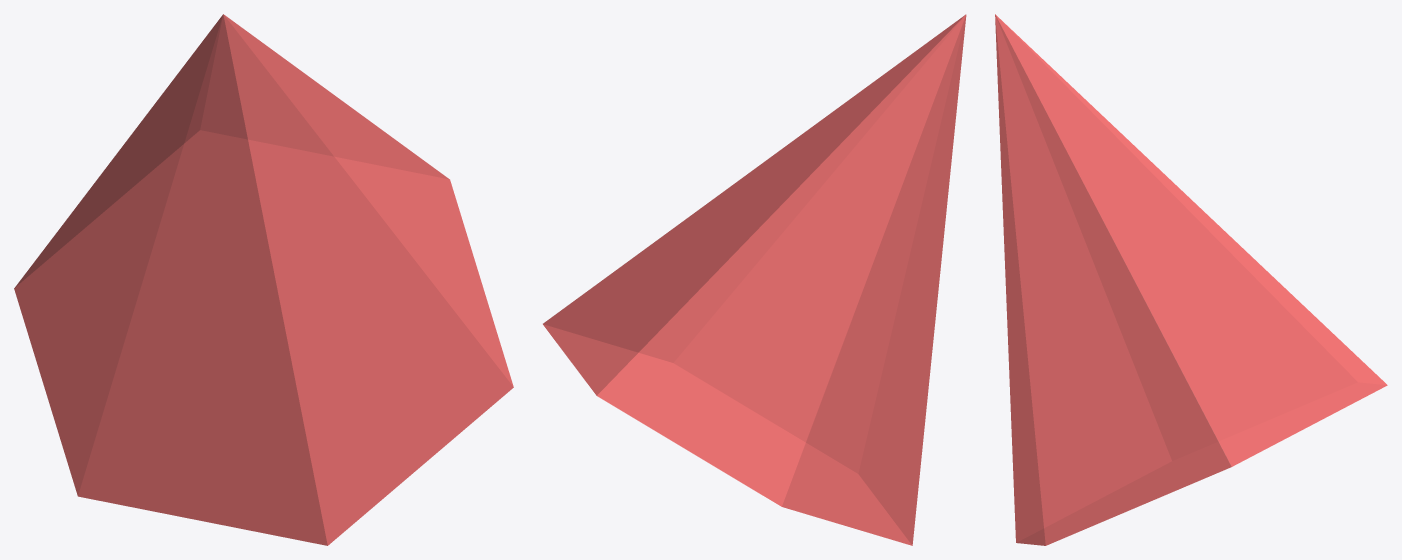
3 views of the same model, side by side, from view 1: azimuth 30°, elevation 25°; view 2: azimuth 150°, elevation 25°; view 3: azimuth 270°, elevation 25° (orthographic). The views are drawn at different scales.
Visible parts, largest first — view 1: root; view 2: root; view 3: root.
Part boxes in pixels (x1,y1,x2,y2): root: [14, 14, 513, 545]; root: [543, 14, 966, 545]; root: [995, 14, 1387, 545].
Size of the model in its own units: 4 by 5.34 by 3.96.
